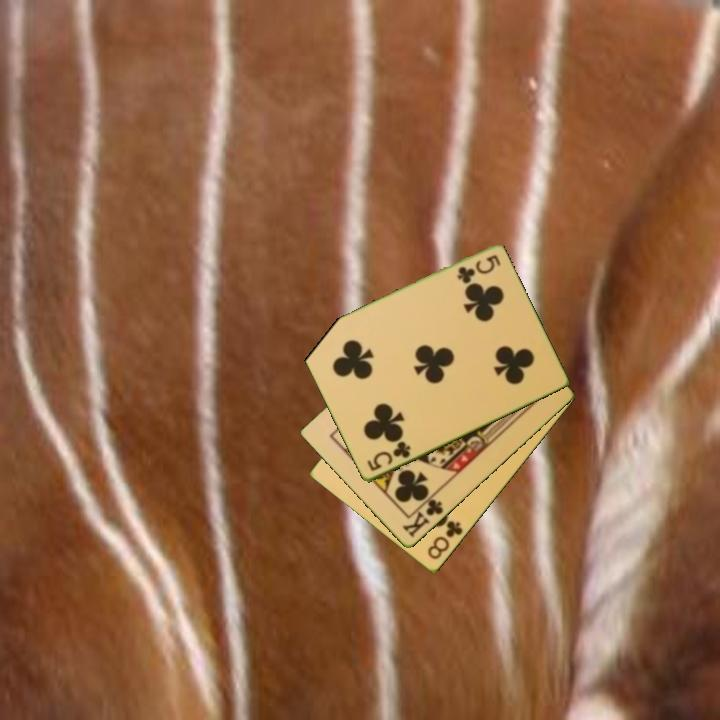5c: (363, 438, 414, 474), (453, 252, 503, 286)
8c: (424, 517, 466, 563)
Kc: (398, 490, 446, 541)
